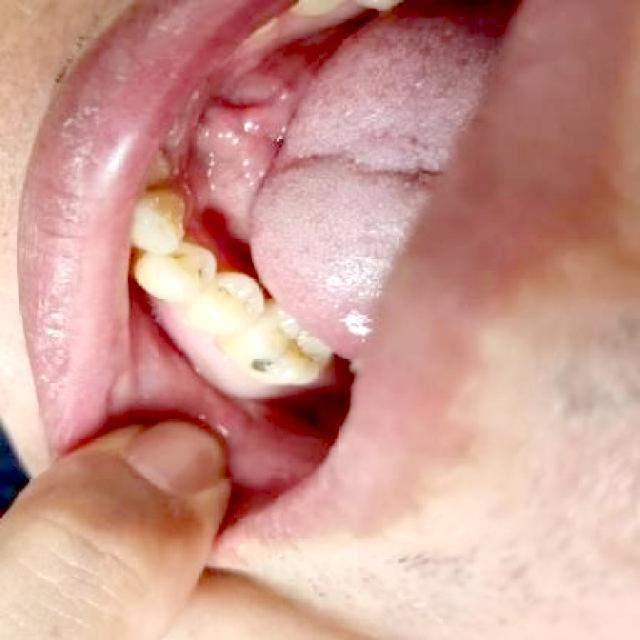Plaque: (273, 329, 320, 362), (217, 286, 237, 300), (195, 263, 205, 282), (169, 251, 189, 258)
